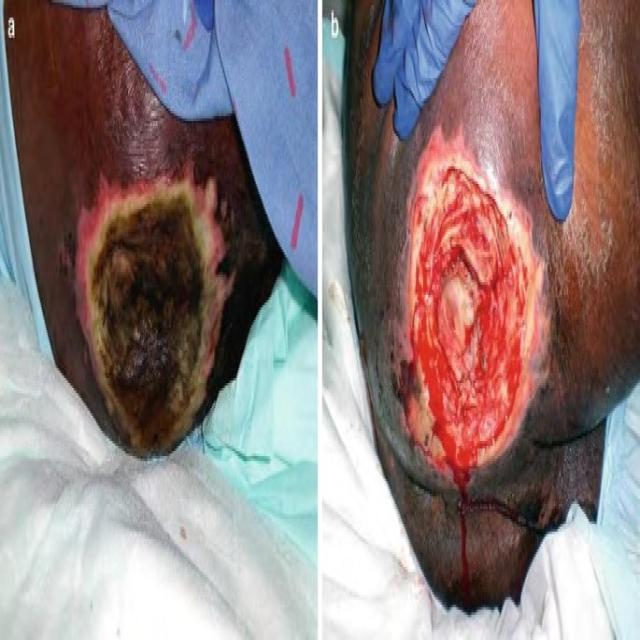Unstageable: (79, 177, 221, 454)
stage-4: (408, 156, 537, 463)
